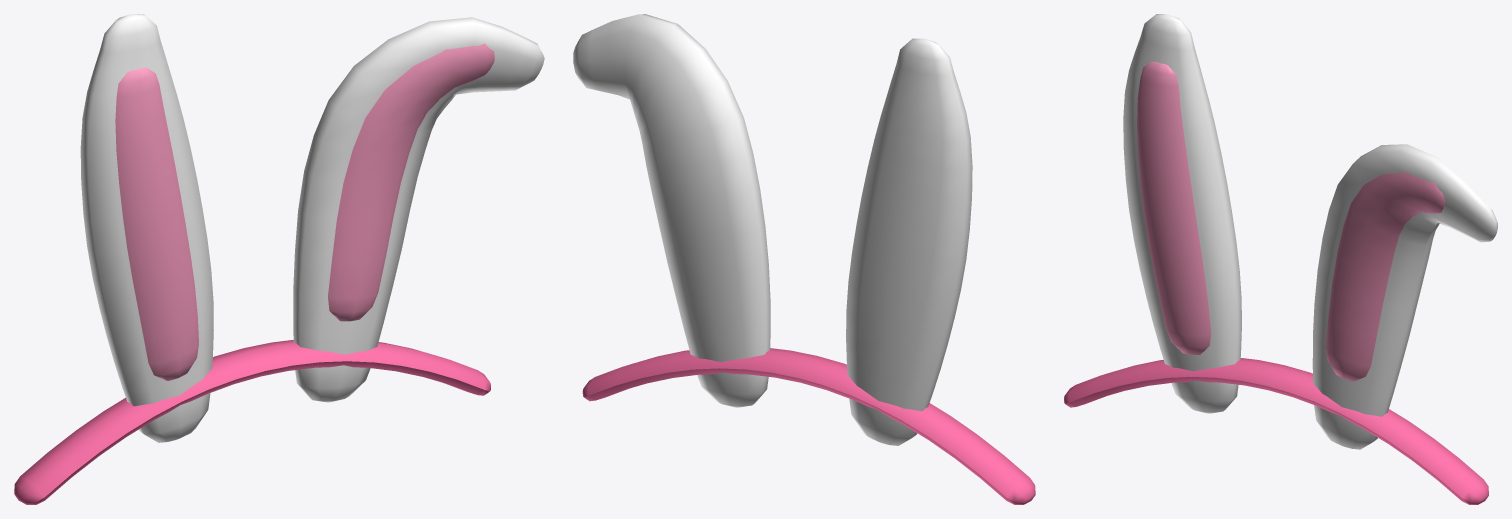
The model's file is bunny_ears.glb.
3 views of the same model, side by side, from view 1: azimuth 30°, elevation 25°; view 2: azimuth 150°, elevation 25°; view 3: azimuth 330°, elevation 25° (orthographic). The views are drawn at different scales.
Visible parts, largest first — view 1: bunny_ears; view 2: bunny_ears; view 3: bunny_ears.
Boxes of the visible parts, x1,y1,x2,y2 form: bunny_ears: (14,14,544,504); bunny_ears: (573,14,1035,504); bunny_ears: (1064,14,1497,504).
Size of the model in its own units: 0.618 by 0.543 by 0.0904.
